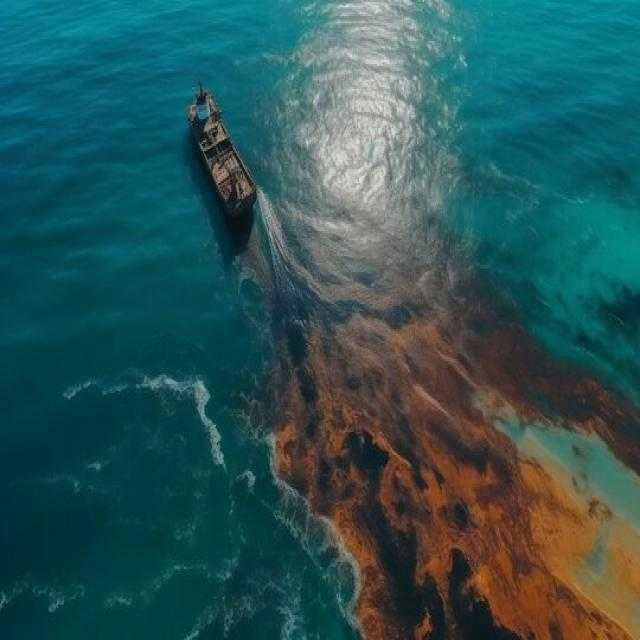truecolor: (258, 189, 639, 640)
